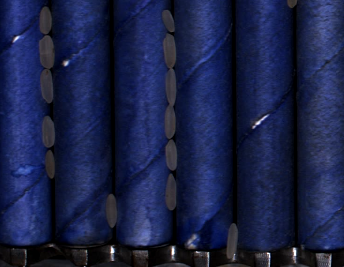complete_grain: (37, 69, 56, 107), (37, 35, 57, 70), (164, 172, 179, 213), (104, 191, 120, 229), (163, 140, 182, 172), (164, 67, 178, 108), (225, 219, 238, 262), (41, 113, 56, 149), (159, 8, 177, 34), (164, 104, 176, 140), (39, 5, 53, 35), (45, 148, 57, 182)
yellow_grain: (159, 34, 180, 70)
